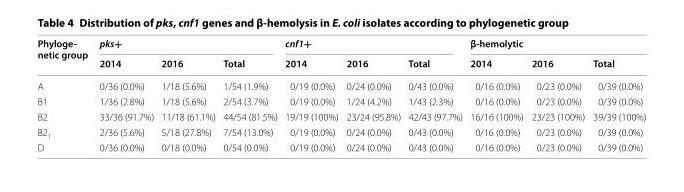table: (36, 37, 645, 152)
table column: (92, 37, 156, 152), (156, 37, 218, 152), (218, 37, 280, 152), (341, 37, 403, 152), (403, 37, 465, 152), (526, 37, 588, 152), (280, 37, 341, 152), (465, 37, 526, 152), (588, 37, 645, 152), (36, 37, 92, 152)
table column header: (36, 37, 645, 74)
table row: (36, 37, 645, 56), (36, 74, 645, 93), (36, 56, 645, 74), (36, 108, 645, 124), (36, 124, 645, 140), (36, 93, 645, 108), (36, 140, 645, 152)
table spanning cell: (92, 37, 280, 56), (280, 37, 465, 56), (465, 37, 645, 56), (36, 37, 92, 74)
